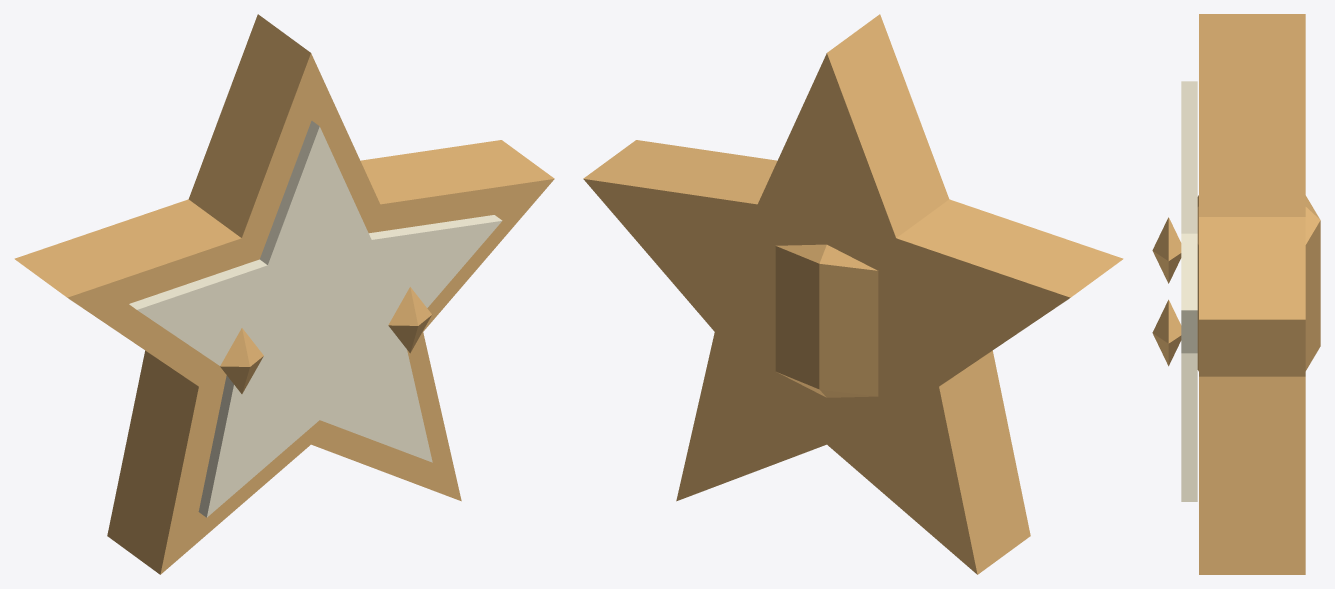
Rendered from star.glb.
3 views of the same model, side by side, from view 1: azimuth 30°, elevation 25°; view 2: azimuth 150°, elevation 25°; view 3: azimuth 270°, elevation 25° (orthographic).
Visible parts, largest first — view 1: collectible; view 2: collectible; view 3: collectible.
Part boxes in pixels (box(x1,y1,x2,y2)): collectible: box(14, 14, 554, 574); collectible: box(583, 14, 1123, 574); collectible: box(1152, 14, 1320, 574).
Bounding box in the file's own units: 1.22 × 1.16 × 0.3622.
